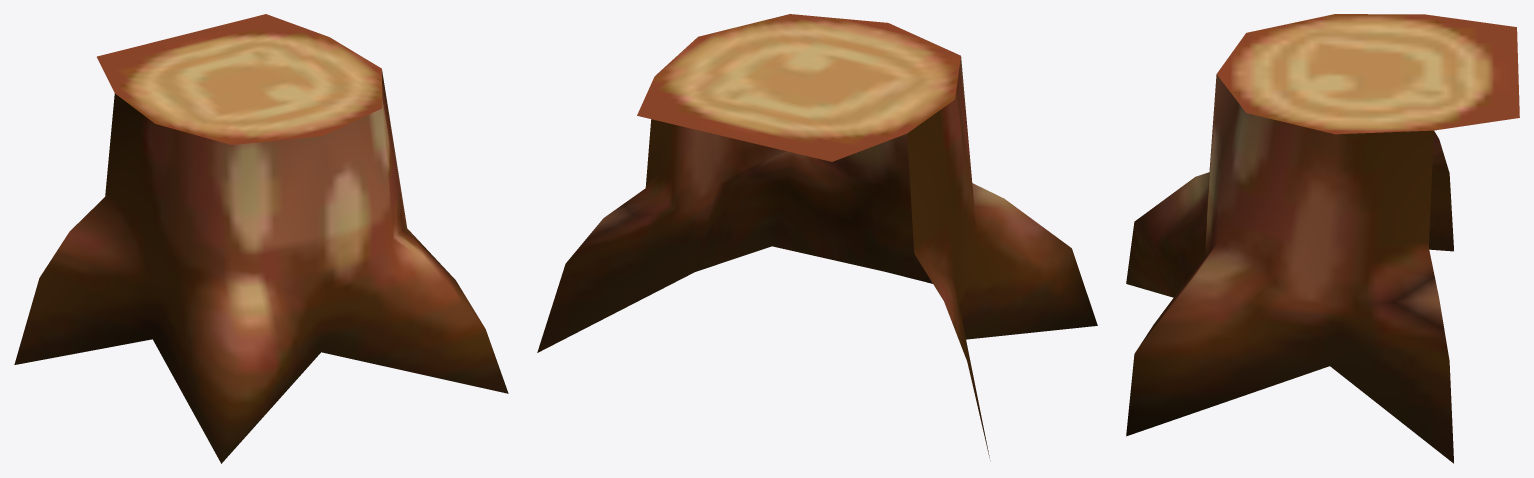
The model's file is fg_treeB_r_4.dae.
3 views of the same model, side by side, from view 1: azimuth 30°, elevation 25°; view 2: azimuth 150°, elevation 25°; view 3: azimuth 270°, elevation 25° (orthographic). The views are drawn at different scales.
Visible parts, largest first — view 1: fg_treeB_r_4; view 2: fg_treeB_r_4; view 3: fg_treeB_r_4.
Boxes of the visible parts, left/top/right/bottom form: fg_treeB_r_4: left=14, top=14, right=508, bottom=463; fg_treeB_r_4: left=537, top=14, right=1097, bottom=460; fg_treeB_r_4: left=1126, top=14, right=1519, bottom=463.
Bounding box in the file's own units: 31.18 × 19.55 × 24.41.
1 material, 1 textured.
